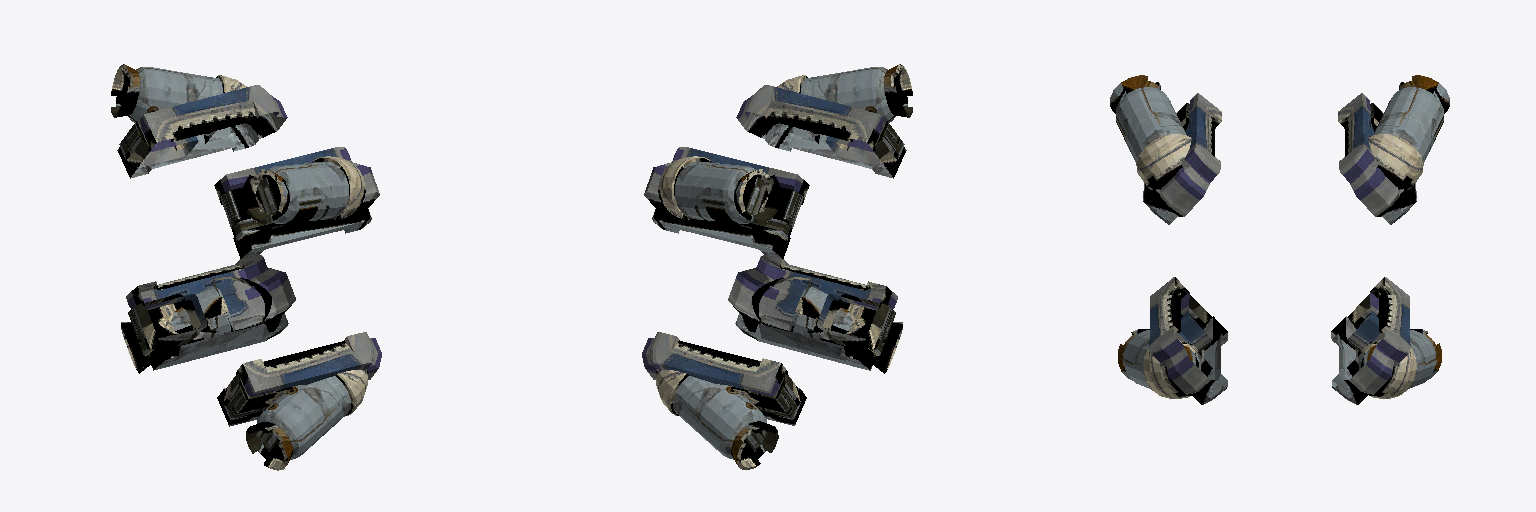
The picture shows the model from 3 angles: view 1: azimuth 30°, elevation 25°; view 2: azimuth 150°, elevation 25°; view 3: azimuth 270°, elevation 25°; orthographic projection.
Parts seen in each view (by area): view 1: unsc_thruster.003; view 2: unsc_thruster.003; view 3: unsc_thruster.003.
Boxes of the visible parts, x1,y1,x2,y2 form: unsc_thruster.003: [111, 64, 381, 470]; unsc_thruster.003: [642, 64, 912, 469]; unsc_thruster.003: [1110, 75, 1449, 404].
Size of the model in its own units: 0.0239 by 0.0461 by 0.0467.
Materials: 1 (1 with a texture image).